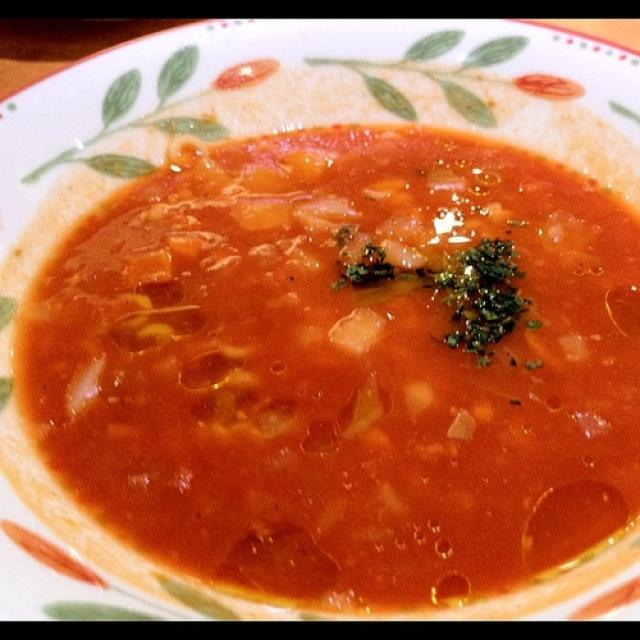汤锅炖物: (15, 34, 621, 610)
